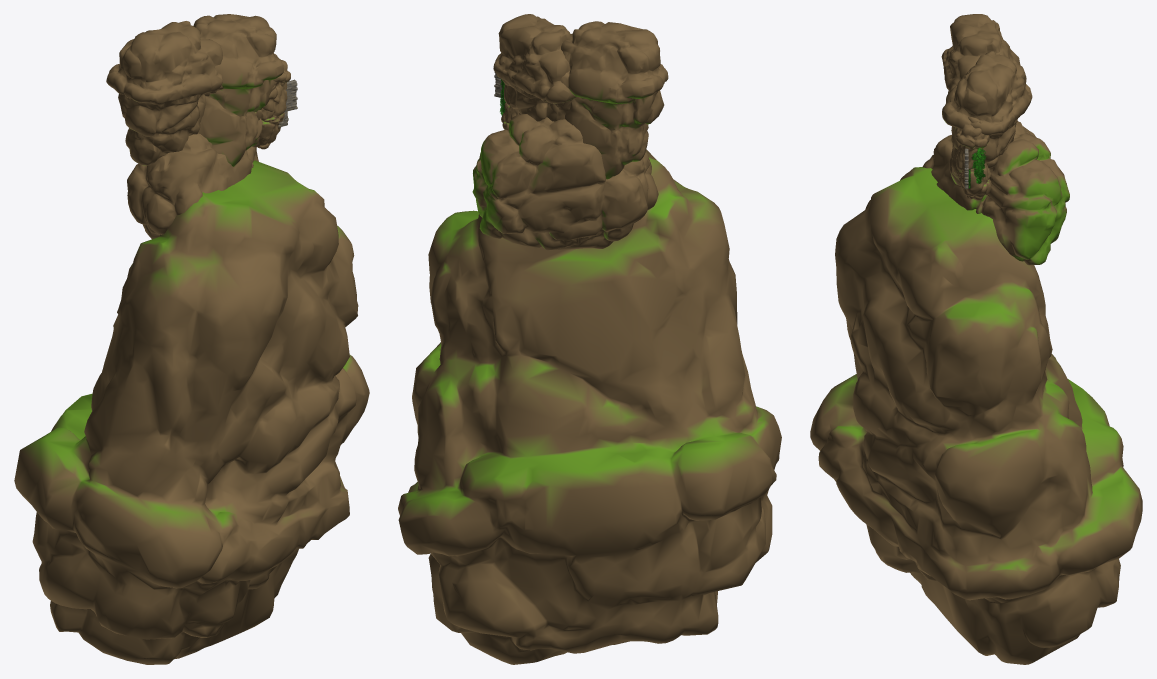
File: cell_x-2_z-2_render.gltf
3 views of the same model, side by side, from view 1: azimuth 30°, elevation 25°; view 2: azimuth 150°, elevation 25°; view 3: azimuth 270°, elevation 25° (orthographic). The views are drawn at different scales.
Visible parts, largest first — view 1: SM_ENV_cliff_castle_02_LOD0.045, SM_ENV_cliff_castle_02_LOD0.004, SM_ENV_cliff_castle_02_LOD0.021, SM_ENV_cliff_castle_01_LOD0.043, SM_ENV_cliff_castle_02_LOD0.038, SM_ENV_cliff_castle_01_LOD0.004; view 2: SM_ENV_cliff_castle_02_LOD0.045, SM_ENV_cliff_castle_01_LOD0.043, SM_ENV_cliff_castle_02_LOD0.004, SM_ENV_cliff_castle_02_LOD0.021; view 3: SM_ENV_cliff_castle_02_LOD0.045, SM_ENV_cliff_castle_01_LOD0.043, SM_ENV_cliff_castle_02_LOD0.021, SM_ENV_cliff_castle_02_LOD0.004, SM_ENV_cliff_castle_02_LOD0.038, SM_ENV_cliff_castle_01_LOD0.004.
Boxes of the visible parts, bbox=[...] form: SM_ENV_cliff_castle_02_LOD0.045: bbox=[14, 160, 369, 664]; SM_ENV_cliff_castle_02_LOD0.004: bbox=[106, 21, 223, 165]; SM_ENV_cliff_castle_02_LOD0.021: bbox=[193, 14, 283, 166]; SM_ENV_cliff_castle_01_LOD0.043: bbox=[127, 133, 258, 239]; SM_ENV_cliff_castle_02_LOD0.038: bbox=[263, 53, 290, 116]; SM_ENV_cliff_castle_01_LOD0.004: bbox=[252, 108, 284, 149]; SM_ENV_cliff_castle_02_LOD0.045: bbox=[398, 149, 781, 664]; SM_ENV_cliff_castle_01_LOD0.043: bbox=[472, 114, 658, 250]; SM_ENV_cliff_castle_02_LOD0.004: bbox=[560, 21, 668, 179]; SM_ENV_cliff_castle_02_LOD0.021: bbox=[493, 14, 576, 121]; SM_ENV_cliff_castle_02_LOD0.045: bbox=[810, 167, 1142, 664]; SM_ENV_cliff_castle_01_LOD0.043: bbox=[922, 121, 1069, 265]; SM_ENV_cliff_castle_02_LOD0.021: bbox=[942, 51, 1032, 185]; SM_ENV_cliff_castle_02_LOD0.004: bbox=[941, 14, 1020, 93]; SM_ENV_cliff_castle_02_LOD0.038: bbox=[956, 116, 989, 171]; SM_ENV_cliff_castle_01_LOD0.004: bbox=[956, 159, 991, 200].
Size of the model in its own units: 75.18 by 134 by 68.04.
Materials: 3 (2 with a texture image).
